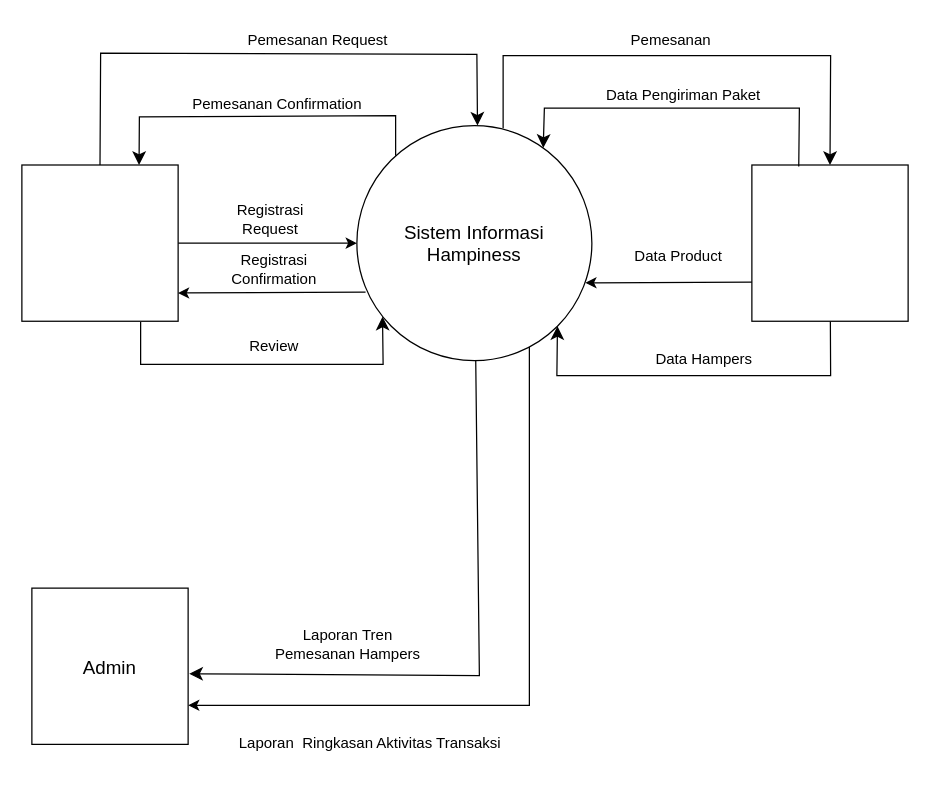
This 930x796 diagram has some shape labels left out. Each missing label, with the centre of its shape:
"Pelanggan" goes at (99,242).
"Vendor" goes at (829,242).
